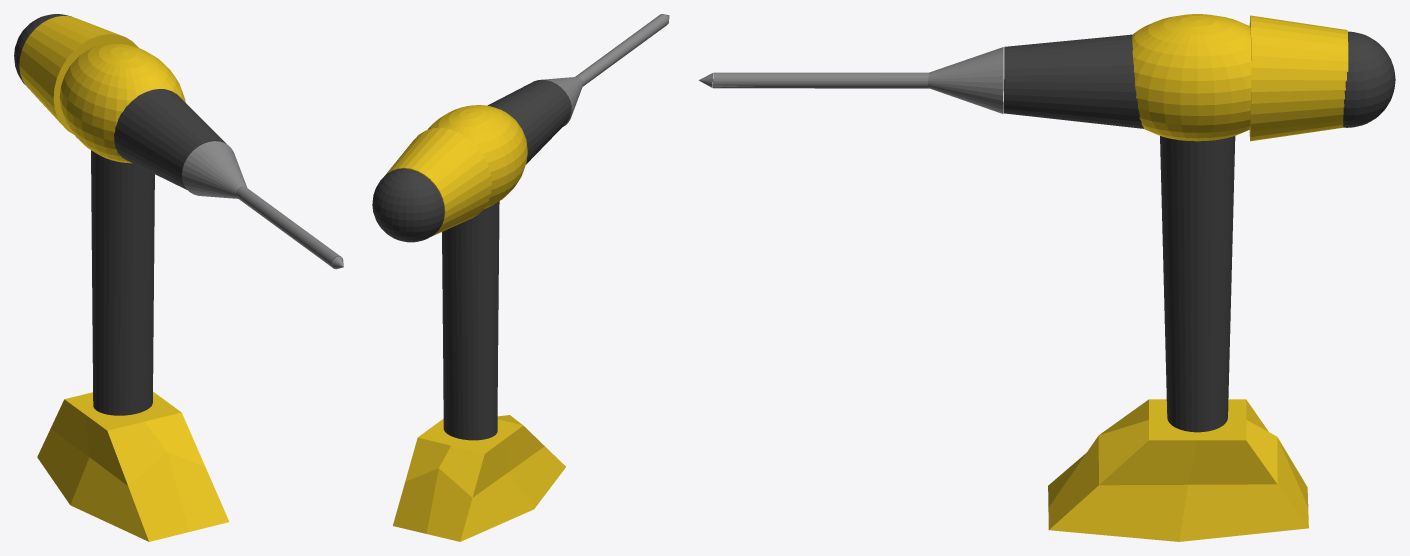
Rendered from WIPDrill.fbx.
The picture shows the model from 3 angles, left to right: view 1: azimuth 30°, elevation 25°; view 2: azimuth 150°, elevation 25°; view 3: azimuth 270°, elevation 25°; orthographic projection. The views are drawn at different scales.
Parts seen in each view (by area): view 1: Cube; view 2: Cube; view 3: Cube.
Boxes of the visible parts, x1,y1,x2,y2 form: Cube: [14, 14, 343, 541]; Cube: [372, 14, 669, 541]; Cube: [698, 14, 1395, 541].
Size of the model in its own units: 332 by 1108 by 1435.
